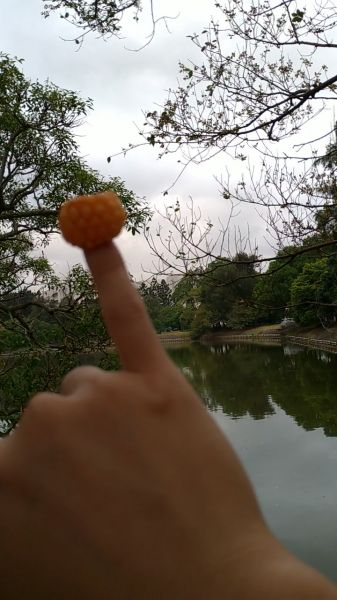eggs: (57, 191, 126, 248)
